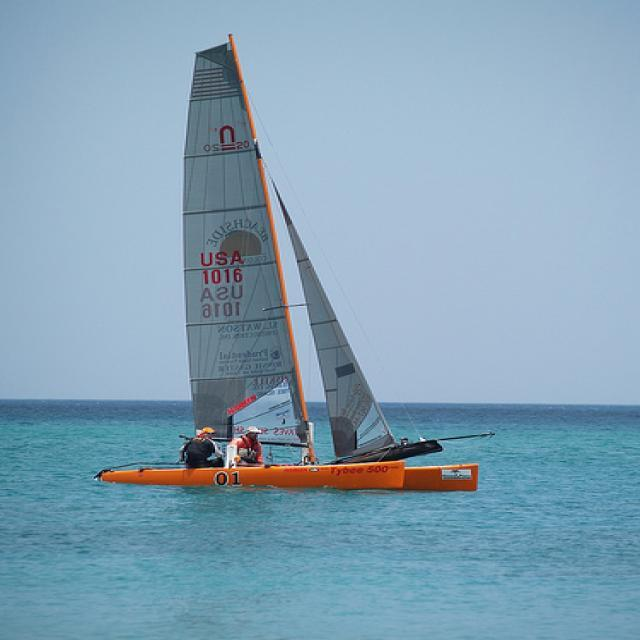Ship: (104, 38, 482, 500)
